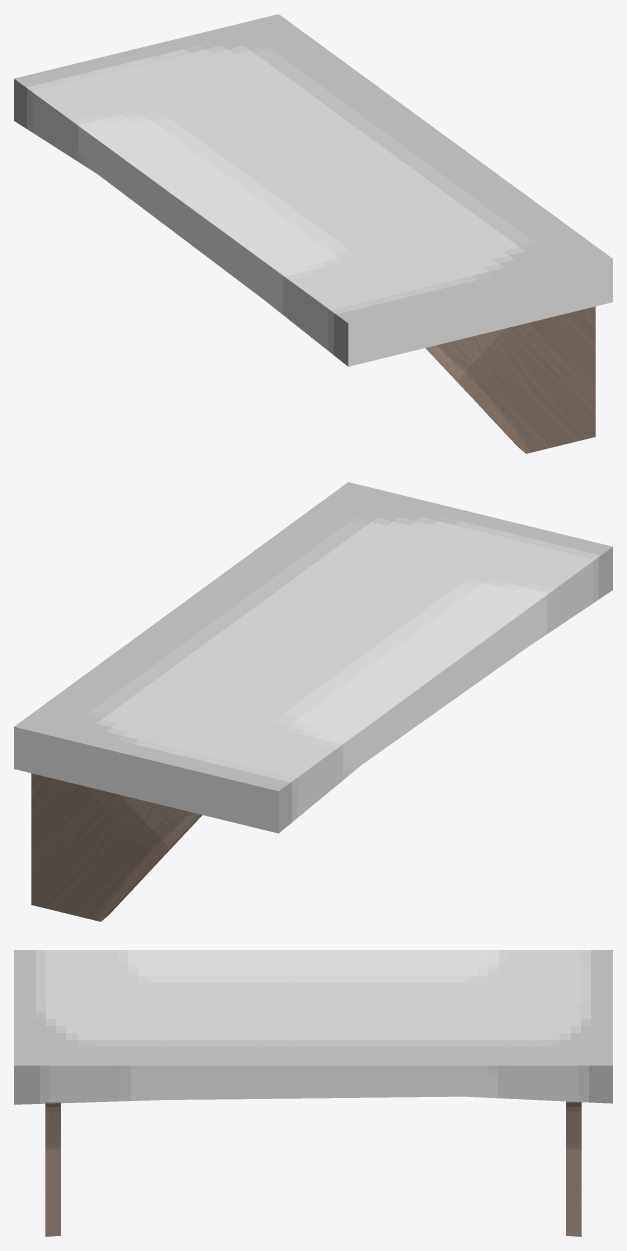
The model's file is SM_SmallShelf.fbx.
3 renders of one model, top to bottom at view 1: azimuth 30°, elevation 25°; view 2: azimuth 150°, elevation 25°; view 3: azimuth 270°, elevation 25°, orthographic. The views are drawn at different scales.
Parts seen in each view (by area): view 1: SM_SmallShelf_LOD0; view 2: SM_SmallShelf_LOD0; view 3: SM_SmallShelf_LOD0.
Part boxes in pixels (left/top/right/bottom): SM_SmallShelf_LOD0: left=14, top=14, right=612, bottom=453; SM_SmallShelf_LOD0: left=14, top=482, right=612, bottom=921; SM_SmallShelf_LOD0: left=14, top=950, right=612, bottom=1236.
Bounding box in the file's own units: 42.08 × 92.04 × 29.01.
